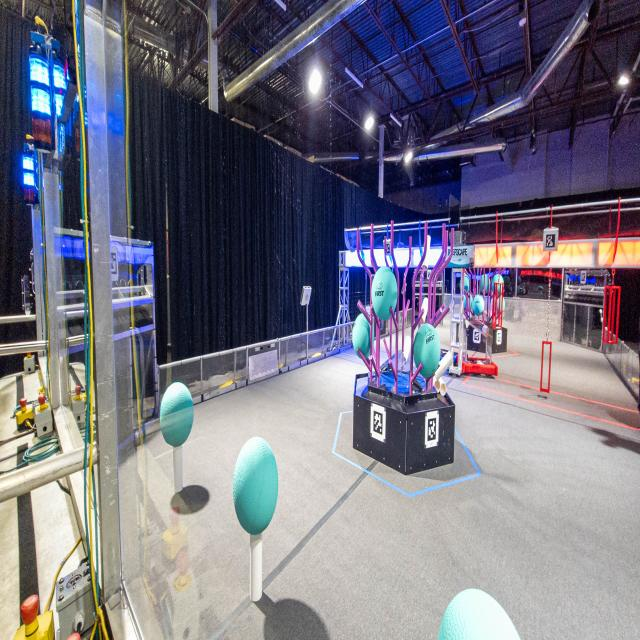Algae: (233, 436, 279, 534), (437, 588, 520, 640), (160, 382, 193, 447), (413, 323, 441, 378), (372, 266, 398, 321), (353, 313, 374, 358), (492, 274, 504, 296), (473, 295, 484, 316), (494, 295, 505, 314), (480, 274, 490, 294), (460, 275, 470, 294), (463, 293, 472, 311)
Coral: (250, 532, 263, 602), (434, 351, 453, 382), (401, 336, 411, 364), (421, 297, 428, 326)
